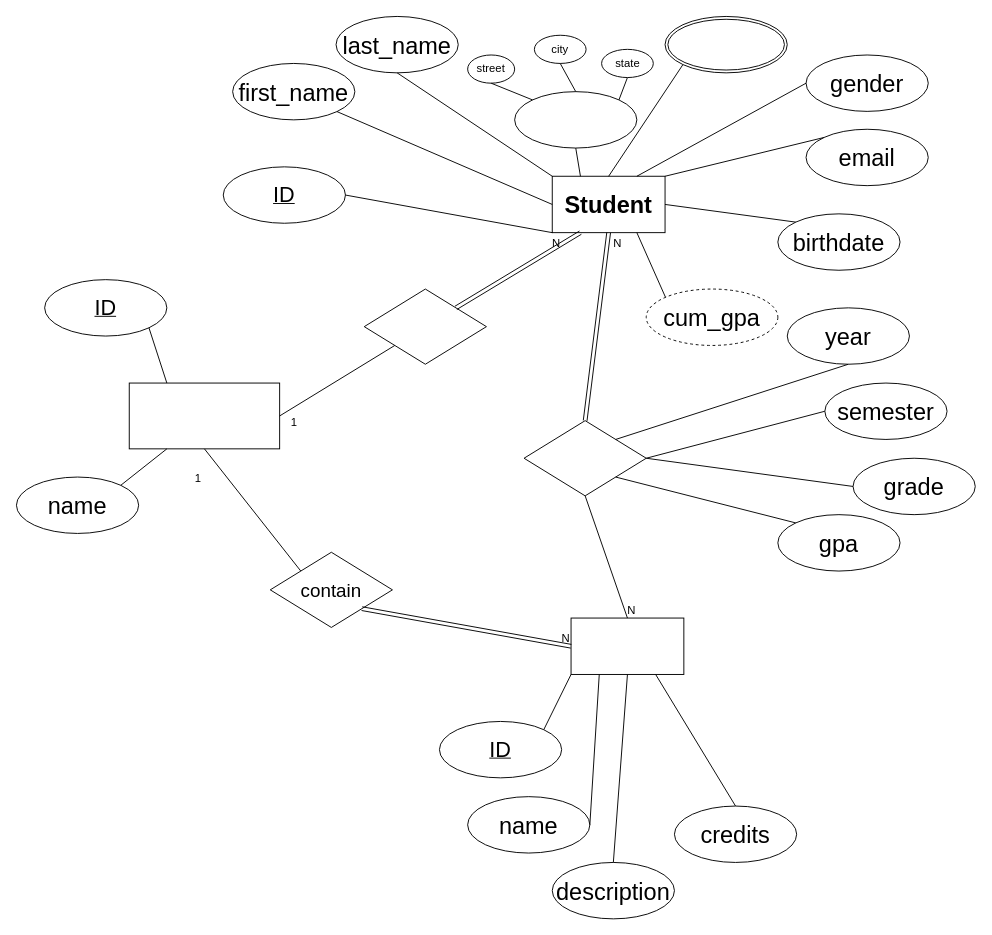
The diagram is 992 pixels wide and 935 high, and some of its shapes have lost their labels. The shapes that lost their labels are listed below. From the top down, each one's centre as x and y in pixels, then its label:
[725,44]: Phone
[575,119]: address
[424,326]: enrolled in
[204,415]: Department
[584,458]: assigned
[627,645]: Course
